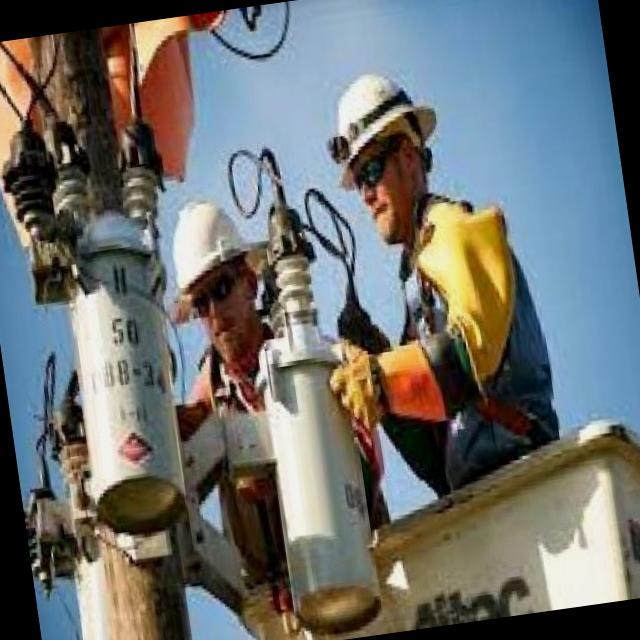vest: (376, 188, 570, 474)
